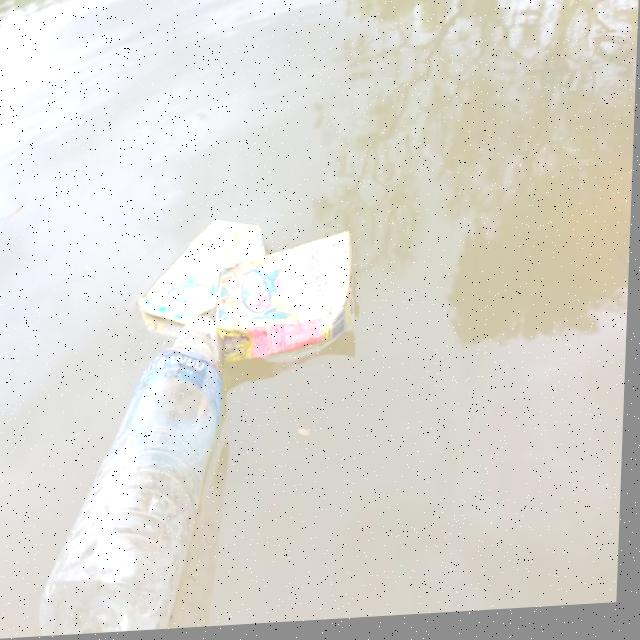paper: (206, 228, 368, 384), (140, 205, 310, 322)
waterbottle: (24, 314, 238, 638)
